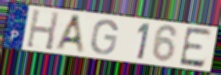1: (135, 22, 151, 62)
6: (149, 24, 180, 66)
A: (54, 14, 88, 56)
E: (178, 25, 214, 70)
G: (89, 19, 120, 57)
H: (24, 8, 61, 52)
